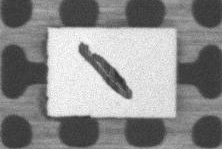DIE_INK: (76, 41, 133, 101)
